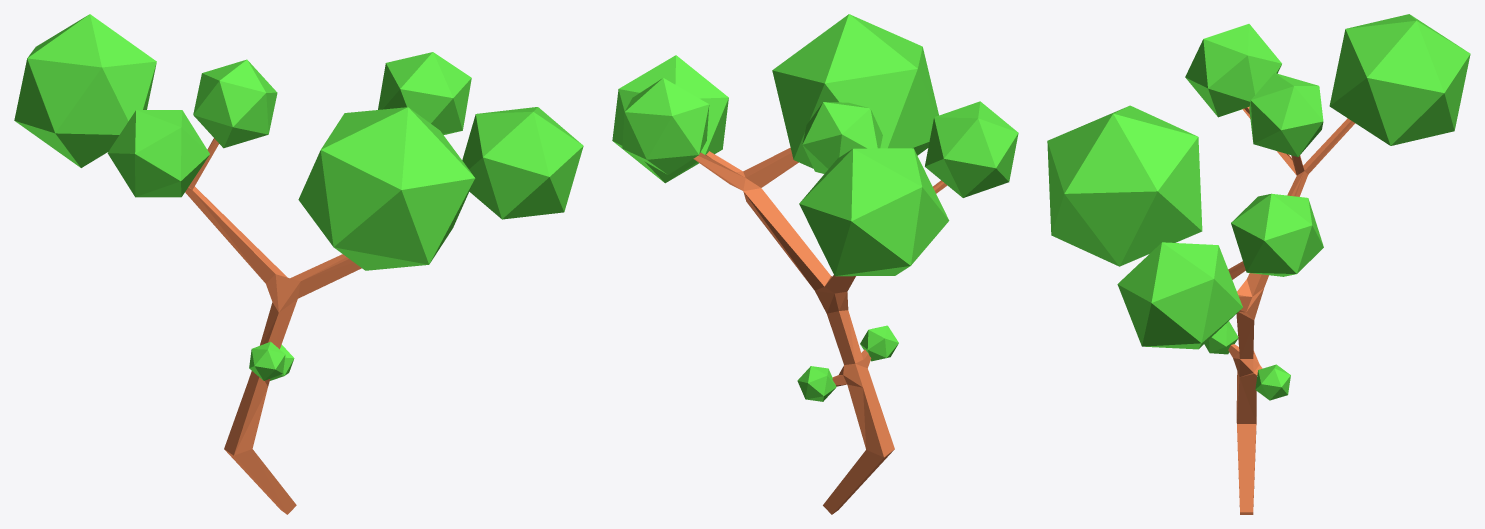
File: polyTree.dae
The picture shows the model from 3 angles, left to right: view 1: azimuth 30°, elevation 25°; view 2: azimuth 150°, elevation 25°; view 3: azimuth 270°, elevation 25°; orthographic projection. The views are drawn at different scales.
Visible parts, largest first — view 1: Cube; view 2: Cube; view 3: Cube.
Part boxes in pixels (x1,y1,x2,y2): Cube: [14, 14, 583, 514]; Cube: [612, 14, 1018, 514]; Cube: [1047, 14, 1470, 514].
Size of the model in its own units: 4.06 by 3.63 by 4.21.
